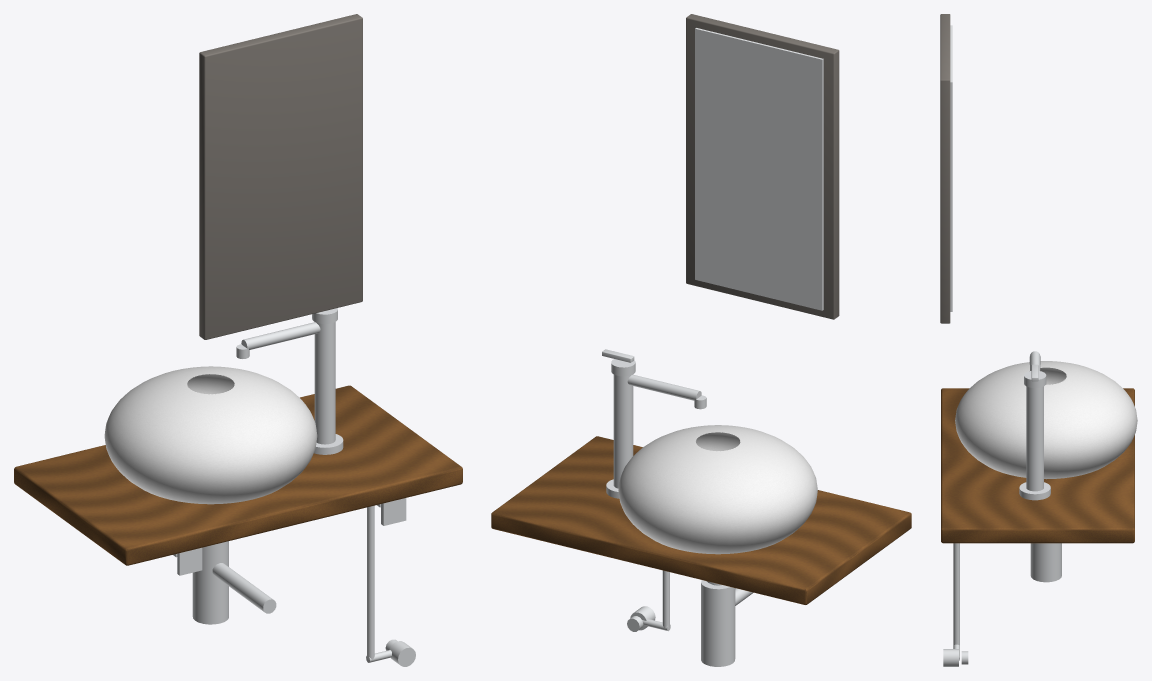
Rendered from dokodemo-wash.glb.
3 renders of one model, left to right at view 1: azimuth 30°, elevation 25°; view 2: azimuth 150°, elevation 25°; view 3: azimuth 270°, elevation 25°, orthographic. The views are drawn at different scales.
Parts seen in each view (by area): view 1: MirrorFrame, Hero_DokodemoCounter, Hero_DokodemoBowl, Hero_DokodemoFaucet_body, Hero_DokodemoTrap, SupplyRise, TrapArm, Hero_DokodemoFaucet_spout; view 2: Hero_DokodemoMirror, Hero_DokodemoCounter, Hero_DokodemoBowl, MirrorFrame, Hero_DokodemoTrap, Hero_DokodemoFaucet_body, Hero_DokodemoFaucet_spout; view 3: Hero_DokodemoCounter, Hero_DokodemoBowl, MirrorFrame, Hero_DokodemoFaucet_body, Hero_DokodemoTrap, Hero_DokodemoMirror, SupplyRise, Hero_DokodemoFaucet_base.
Part boxes in pixels (x1,y1,x2,y2): MirrorFrame: (199, 14, 362, 339); Hero_DokodemoCounter: (14, 385, 462, 565); Hero_DokodemoBowl: (104, 366, 317, 504); Hero_DokodemoFaucet_body: (314, 322, 335, 444); Hero_DokodemoTrap: (192, 541, 228, 624); SupplyRise: (367, 505, 374, 659); TrapArm: (212, 563, 276, 613); Hero_DokodemoFaucet_spout: (241, 322, 320, 349); Hero_DokodemoMirror: (695, 28, 823, 310); Hero_DokodemoCounter: (491, 436, 911, 604); Hero_DokodemoBowl: (618, 425, 817, 554); MirrorFrame: (686, 14, 839, 319); Hero_DokodemoTrap: (701, 580, 735, 666); Hero_DokodemoFaucet_body: (613, 374, 633, 488); Hero_DokodemoFaucet_spout: (627, 374, 701, 400); Hero_DokodemoCounter: (941, 388, 1134, 543); Hero_DokodemoBowl: (955, 361, 1137, 479); MirrorFrame: (940, 14, 950, 323); Hero_DokodemoFaucet_body: (1026, 386, 1043, 491); Hero_DokodemoTrap: (1030, 543, 1061, 582); Hero_DokodemoMirror: (950, 25, 952, 311); SupplyRise: (953, 543, 959, 645); Hero_DokodemoFaucet_base: (1019, 482, 1050, 500).
Size of the model in its own units: 0.596 by 1.12 by 0.3517.
Materials: 6 (2 with a texture image).
